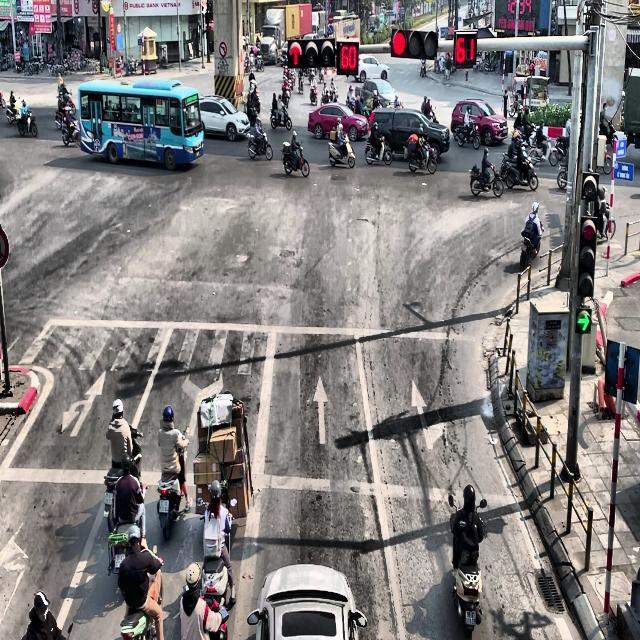BUS: (78, 78, 204, 170)
CAR: (247, 563, 367, 639), (451, 99, 508, 146), (198, 94, 250, 141), (307, 102, 368, 142), (359, 78, 402, 110), (353, 54, 390, 82)
MOTORBIKE: (448, 496, 486, 636), (120, 546, 163, 640), (197, 498, 233, 608), (156, 426, 190, 541), (107, 482, 148, 576), (103, 425, 143, 520), (501, 151, 538, 191), (469, 163, 503, 197), (281, 139, 310, 177), (408, 139, 437, 174), (328, 131, 355, 168), (365, 132, 392, 166), (520, 229, 542, 268), (454, 120, 481, 149), (248, 132, 272, 160), (549, 135, 569, 167), (270, 101, 292, 130), (61, 118, 81, 146), (17, 110, 37, 137), (5, 99, 22, 124), (508, 90, 523, 116), (309, 81, 318, 105), (320, 84, 330, 105), (428, 105, 438, 123), (329, 84, 338, 103), (255, 55, 264, 71), (298, 72, 304, 94), (420, 60, 427, 77)
TRAFFIC_LIGHT: (576, 215, 596, 298), (389, 26, 438, 59), (453, 29, 478, 68), (337, 40, 359, 76)
